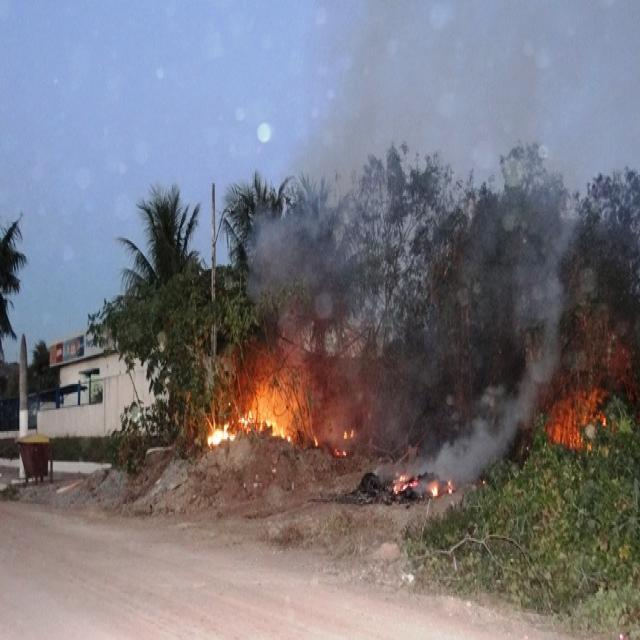Fire: (204, 372, 368, 460), (552, 382, 606, 454), (397, 463, 450, 502)
Smoke: (250, 34, 556, 312), (425, 335, 539, 475)
